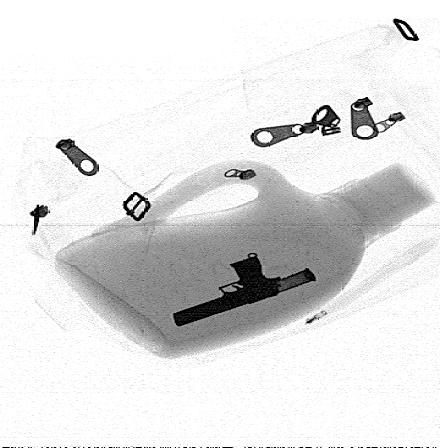Bullet: (235, 269, 315, 301)
Gun: (174, 254, 280, 327)
